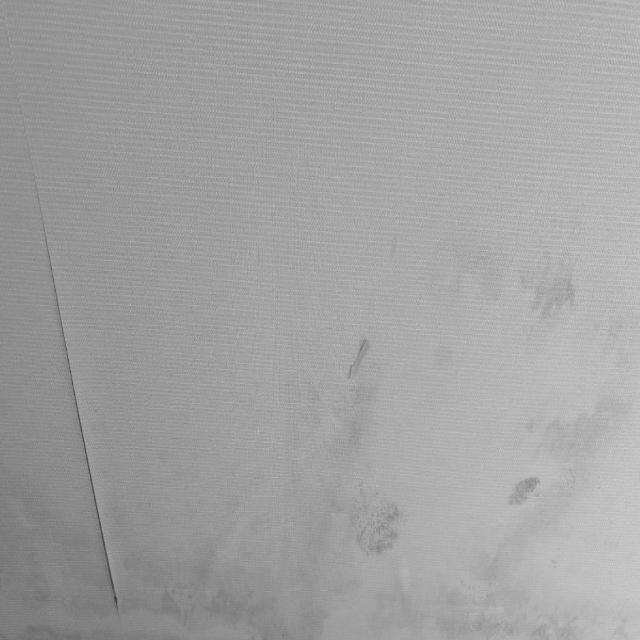stain marks: (10, 462, 429, 635), (429, 326, 636, 634), (258, 354, 382, 463), (411, 244, 575, 321), (382, 228, 406, 278), (356, 285, 380, 328)
